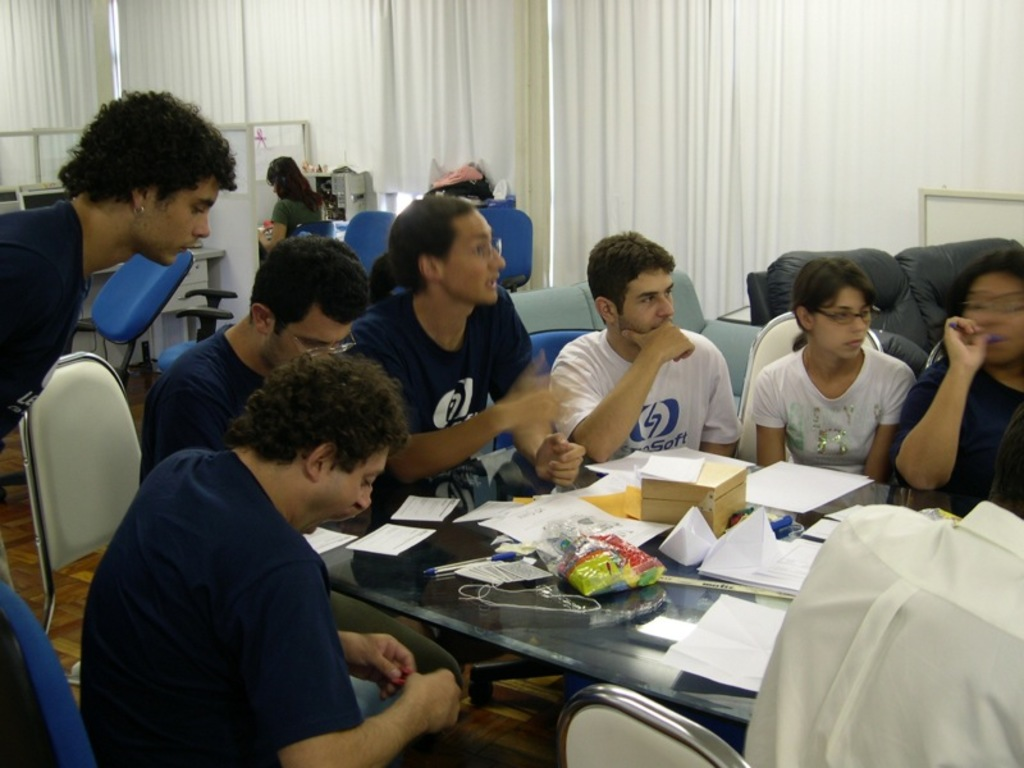Person: (0, 87, 1023, 768)
